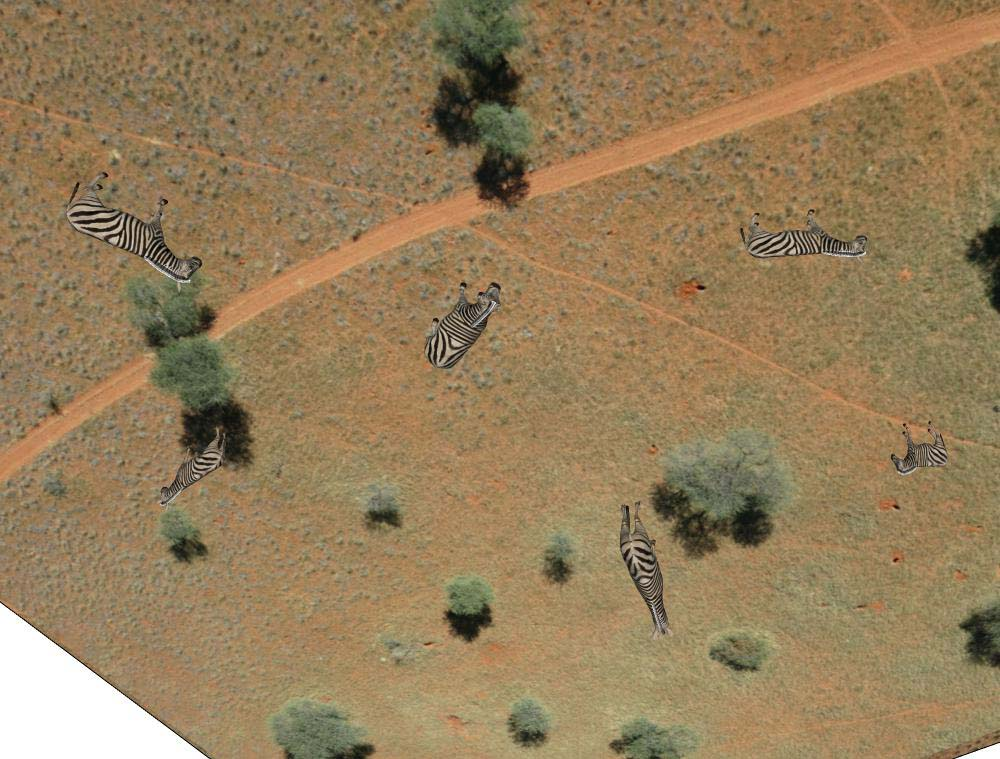zebra: (66, 170, 201, 288), (740, 200, 871, 264), (615, 499, 672, 640), (426, 273, 499, 372), (158, 426, 228, 507), (890, 415, 950, 478)
